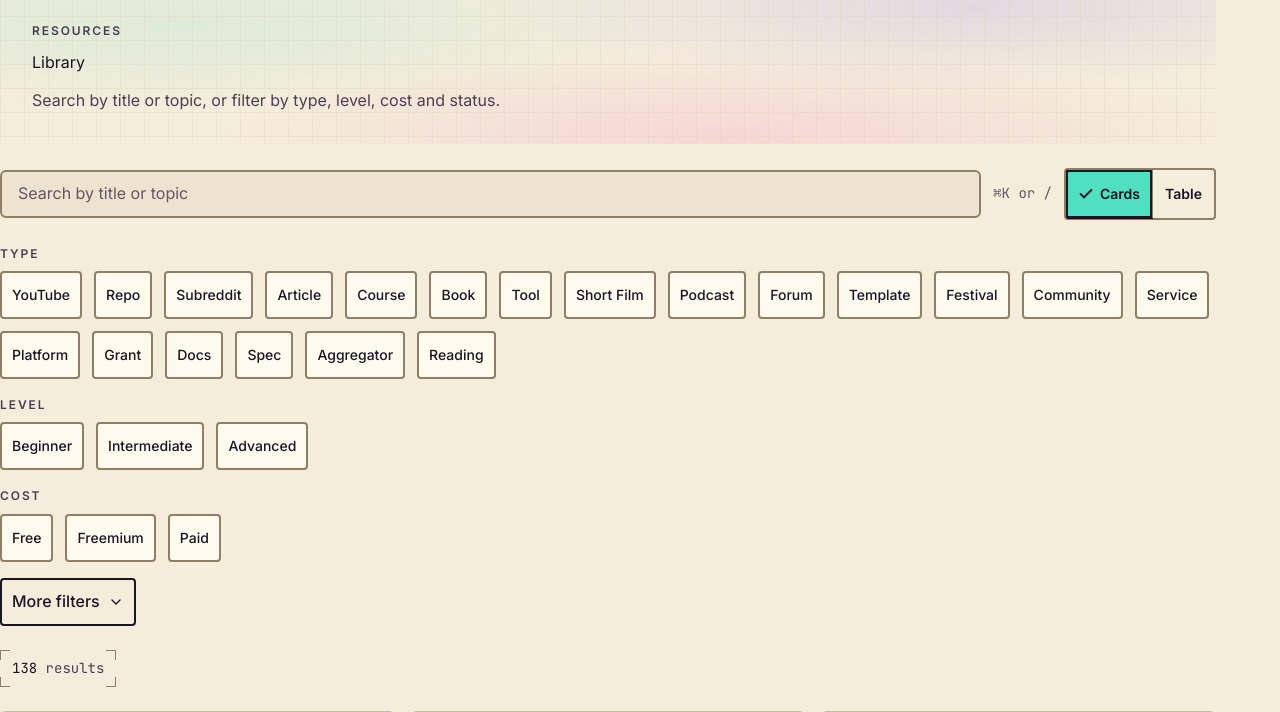
Test: Library › shows an empty query as 0 results
This screenshot has width=1280, height=712.
In the search field named "Search the library": (491, 194) [0,170,981,218], type "zzzz-no-such-resource"
(page scrolled)
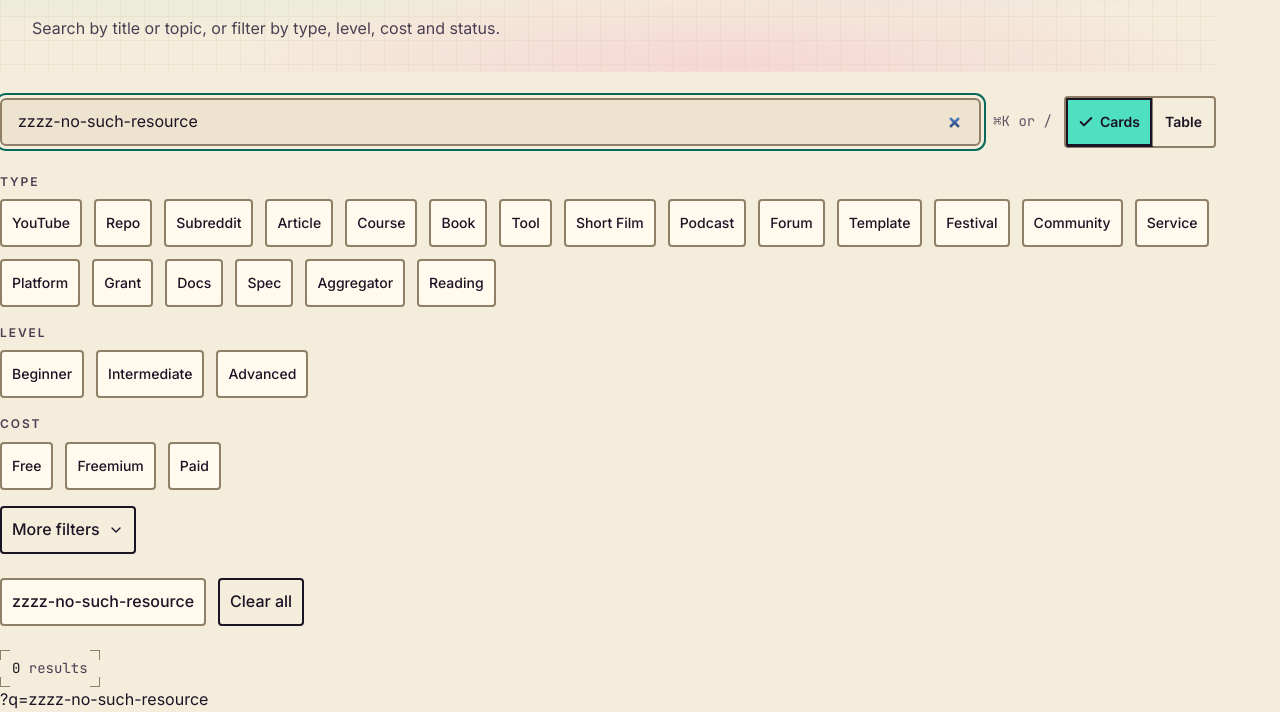
Expected: the message reads "0 results", [12,658,88,678]
